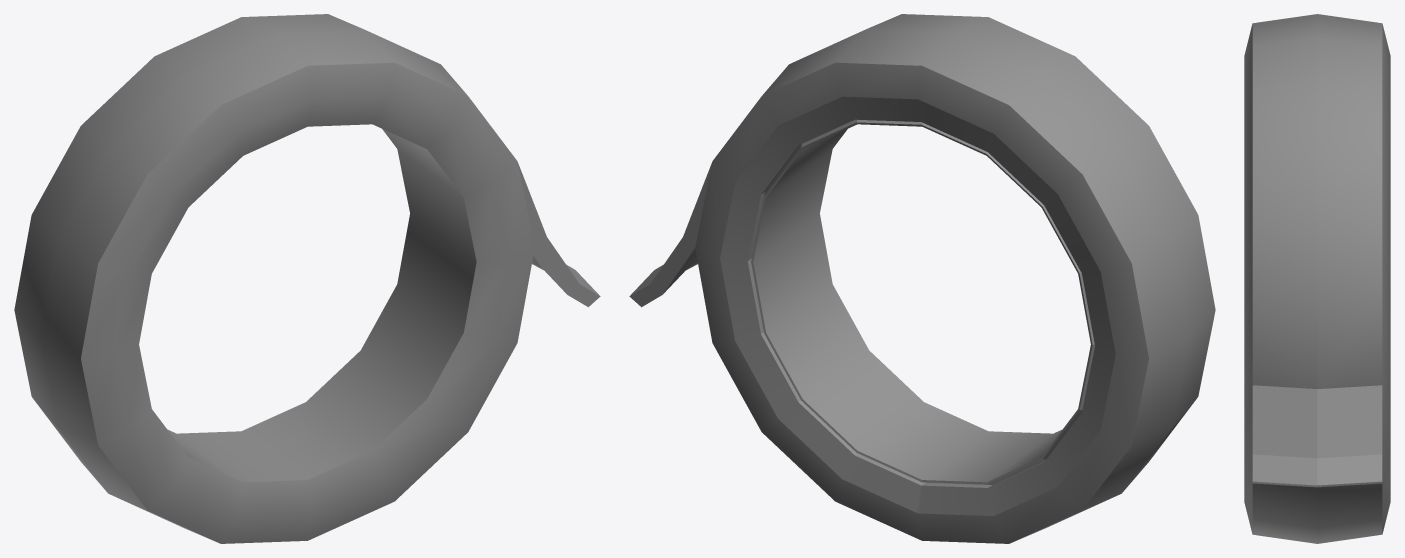
Rendered from SM_tape_01.fbx.
3 views of the same model, side by side, from view 1: azimuth 30°, elevation 25°; view 2: azimuth 150°, elevation 25°; view 3: azimuth 270°, elevation 25° (orthographic). The views are drawn at different scales.
Visible parts, largest first — view 1: tape_01; view 2: tape_01; view 3: tape_01.
Part boxes in pixels (x1,y1,x2,y2): tape_01: (14, 14, 600, 543); tape_01: (629, 14, 1215, 543); tape_01: (1244, 14, 1390, 543).
Bounding box in the file's own units: 53.23 × 46.7 × 12.89.
